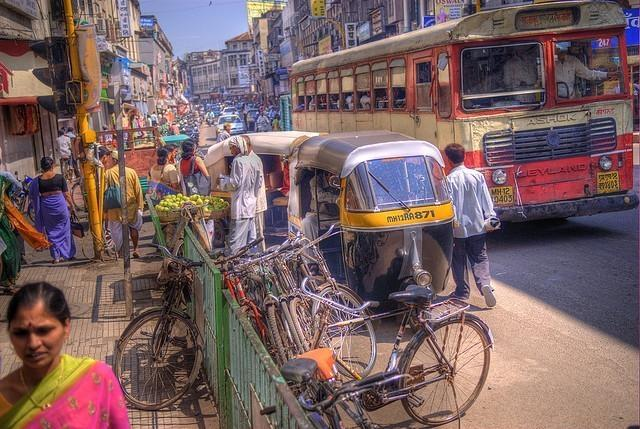bicycle: (297, 273, 496, 429), (112, 244, 206, 412), (284, 220, 364, 329), (284, 349, 378, 422), (252, 242, 312, 350), (214, 236, 268, 348), (264, 262, 305, 354), (262, 272, 298, 366), (240, 264, 266, 308), (218, 267, 242, 307)
bus: (290, 1, 637, 226)
car: (202, 128, 460, 314), (215, 116, 245, 138), (161, 134, 190, 144), (247, 110, 260, 130), (222, 107, 239, 115), (212, 105, 222, 117), (226, 101, 233, 106)
